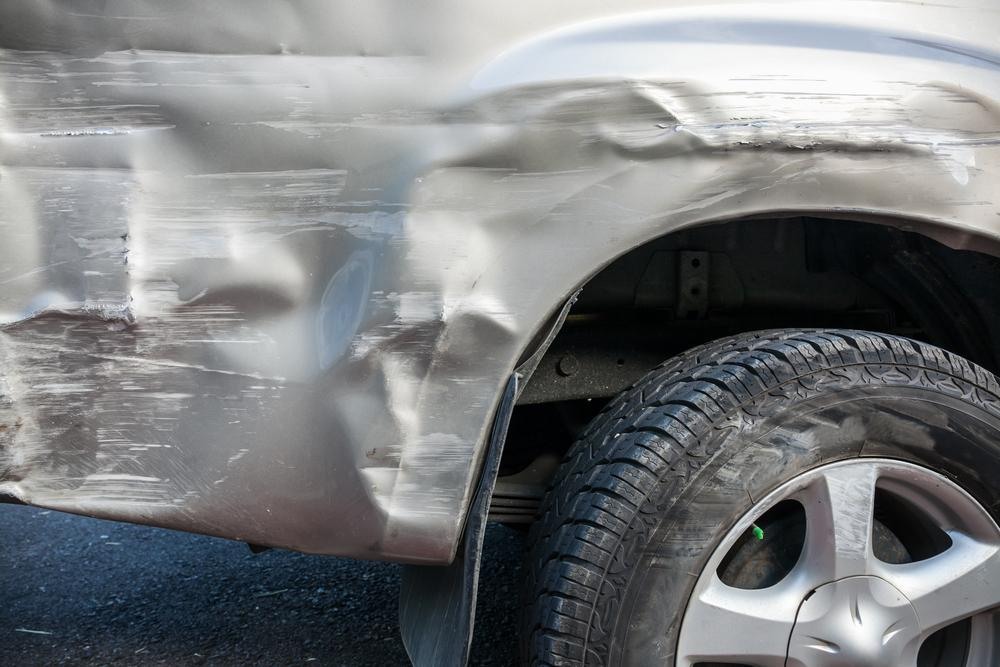dent: (0, 0, 732, 527), (888, 87, 1000, 234)
scratch: (711, 71, 921, 205)
